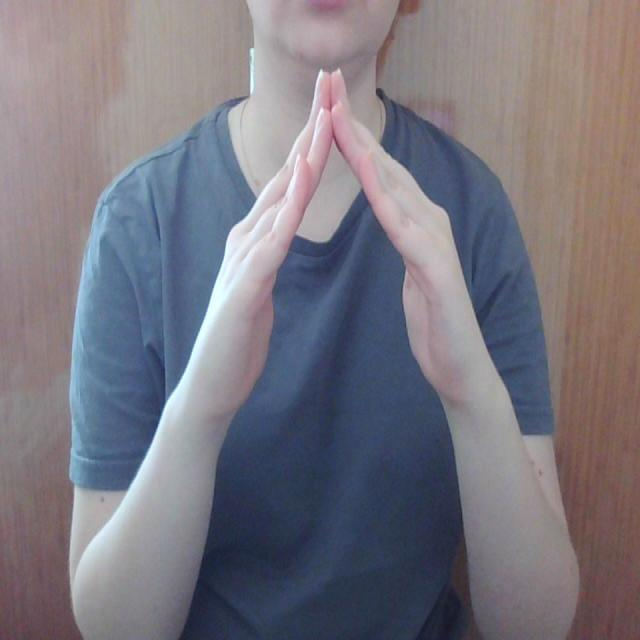Ev: (173, 63, 499, 440)
